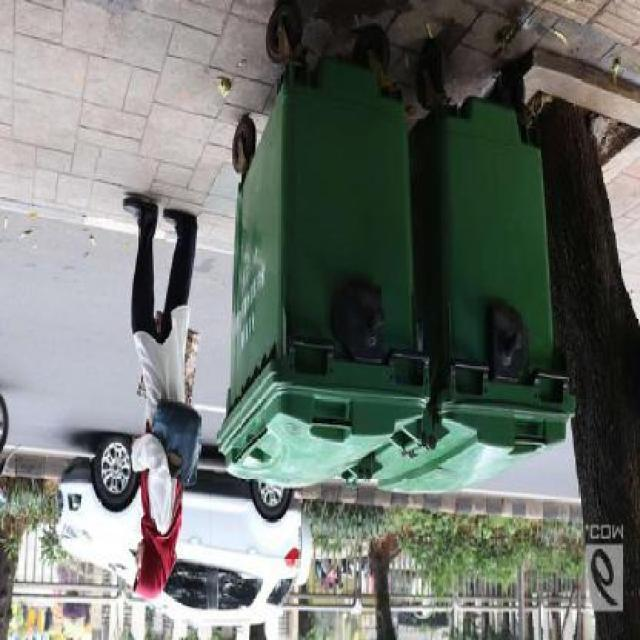garbage container: (211, 2, 434, 495), (371, 54, 580, 500)
